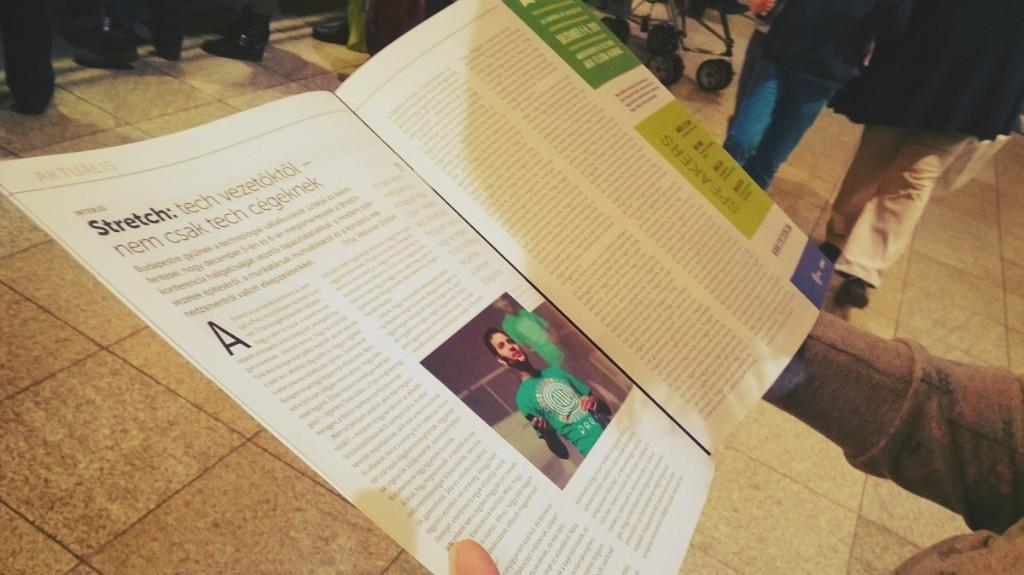Book: (0, 0, 833, 574)
